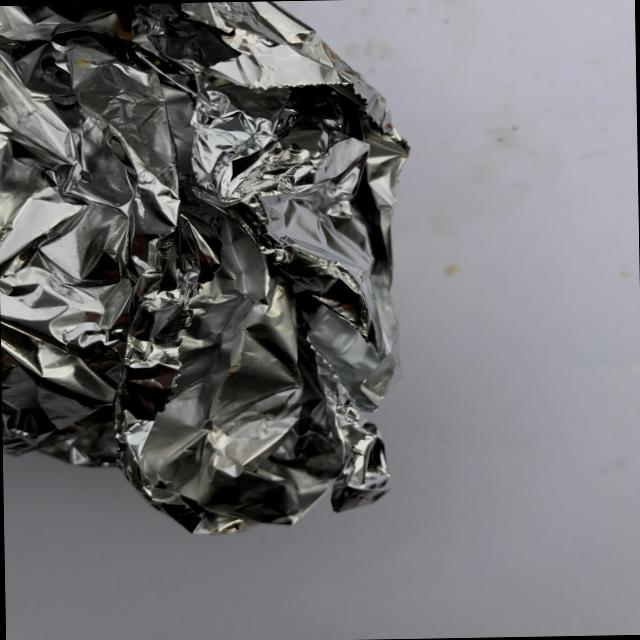Metal: (0, 0, 440, 554)
